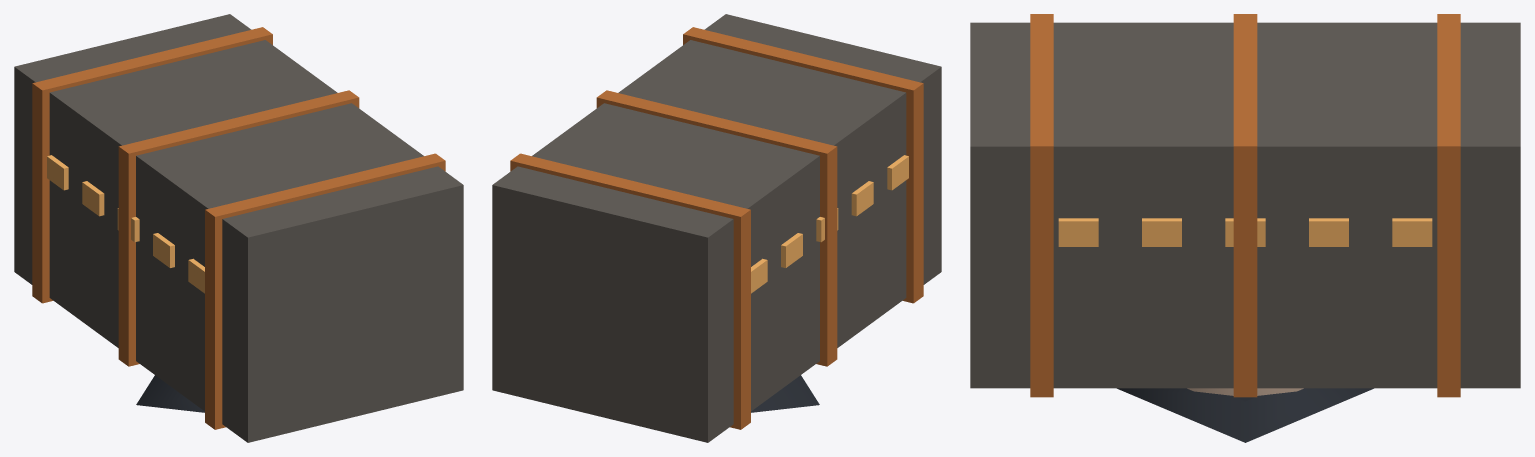
File: compact_high_gravity--habitat_pod.glb
3 views of the same model, side by side, from view 1: azimuth 30°, elevation 25°; view 2: azimuth 150°, elevation 25°; view 3: azimuth 270°, elevation 25° (orthographic). The views are drawn at different scales.
Parts seen in each view (by area): view 1: freight_box_3, load_band_6, load_band_4, load_band_5, mount_adapter_1, habitat_view_port_8, habitat_view_port_7, habitat_view_port_10, habitat_view_port_11; view 2: freight_box_3, load_band_4, load_band_6, load_band_5, mount_adapter_1, habitat_view_port_10, habitat_view_port_11, habitat_view_port_8, habitat_view_port_7; view 3: freight_box_3, load_band_5, load_band_4, load_band_6, mount_adapter_1, habitat_view_port_12, habitat_view_port_16, habitat_view_port_13, habitat_view_port_15.
Part boxes in pixels (x1,y1,x2,y2): freight_box_3: [14, 14, 463, 442]; load_band_6: [205, 153, 445, 429]; load_band_4: [32, 27, 272, 303]; load_band_5: [118, 90, 359, 366]; mount_adapter_1: [136, 375, 204, 412]; habitat_view_port_8: [82, 181, 104, 216]; habitat_view_port_7: [47, 155, 68, 190]; habitat_view_port_10: [153, 233, 174, 267]; habitat_view_port_11: [188, 258, 204, 293]; freight_box_3: [492, 14, 941, 442]; load_band_4: [510, 153, 750, 429]; load_band_6: [683, 27, 923, 303]; load_band_5: [596, 90, 837, 366]; mount_adapter_1: [751, 375, 819, 412]; habitat_view_port_10: [851, 181, 873, 216]; habitat_view_port_11: [887, 155, 908, 190]; habitat_view_port_8: [781, 233, 802, 267]; habitat_view_port_7: [751, 258, 767, 293]; freight_box_3: [970, 22, 1520, 388]; load_band_5: [1233, 14, 1257, 397]; load_band_4: [1437, 14, 1460, 397]; load_band_6: [1030, 14, 1053, 397]; mount_adapter_1: [1117, 388, 1373, 442]; habitat_view_port_12: [1392, 218, 1432, 246]; habitat_view_port_16: [1058, 218, 1098, 246]; habitat_view_port_13: [1309, 218, 1348, 246]; habitat_view_port_15: [1142, 218, 1181, 246].
Bounding box in the file's own units: 22.56 × 24.12 × 39.6.
